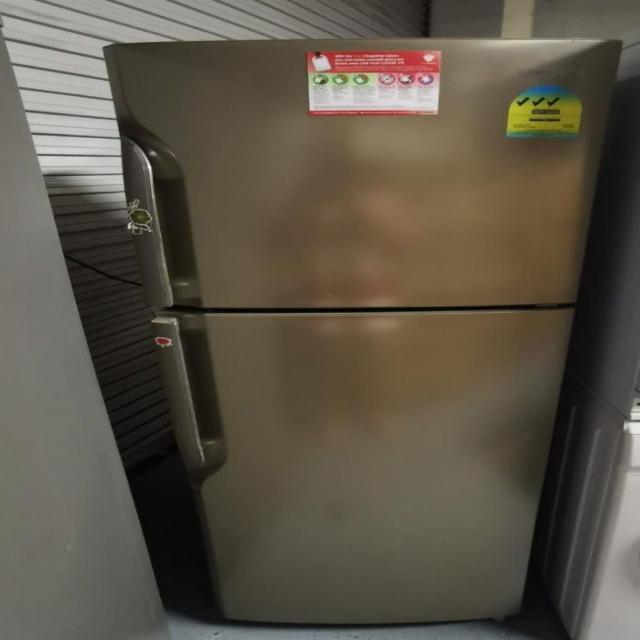refrigerator: (104, 38, 626, 624)
